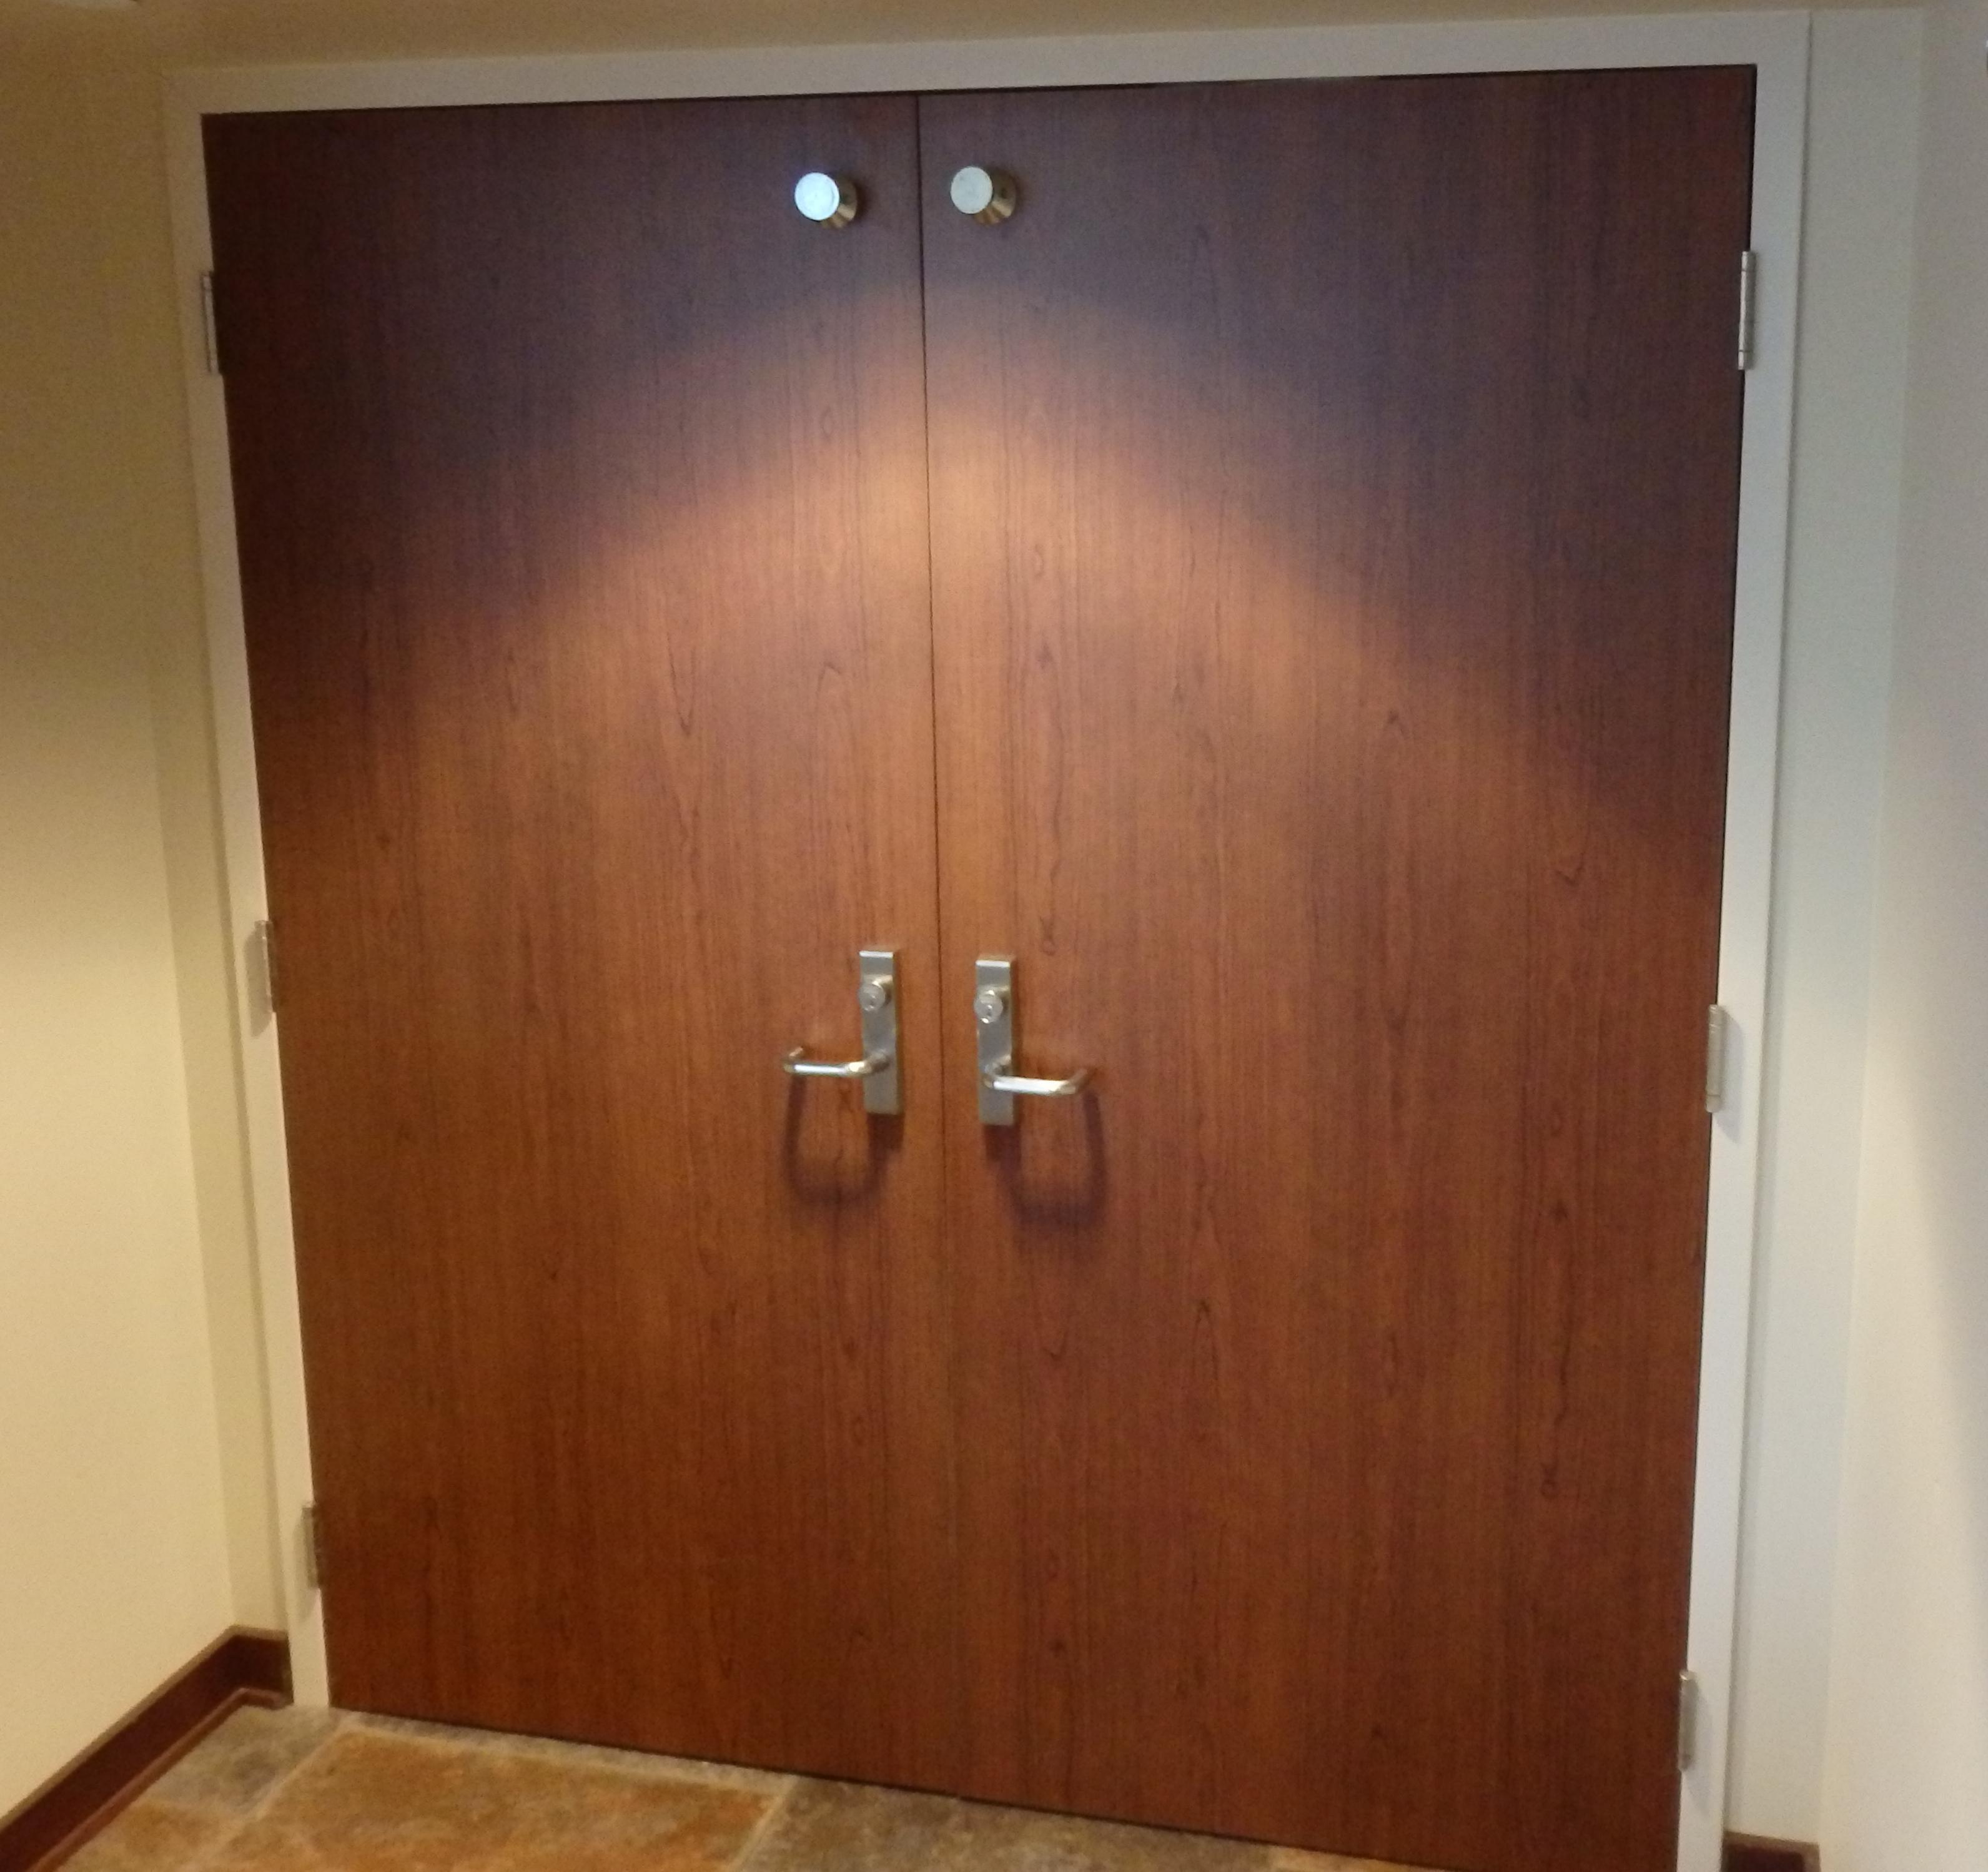door: (167, 60, 1754, 1872)
